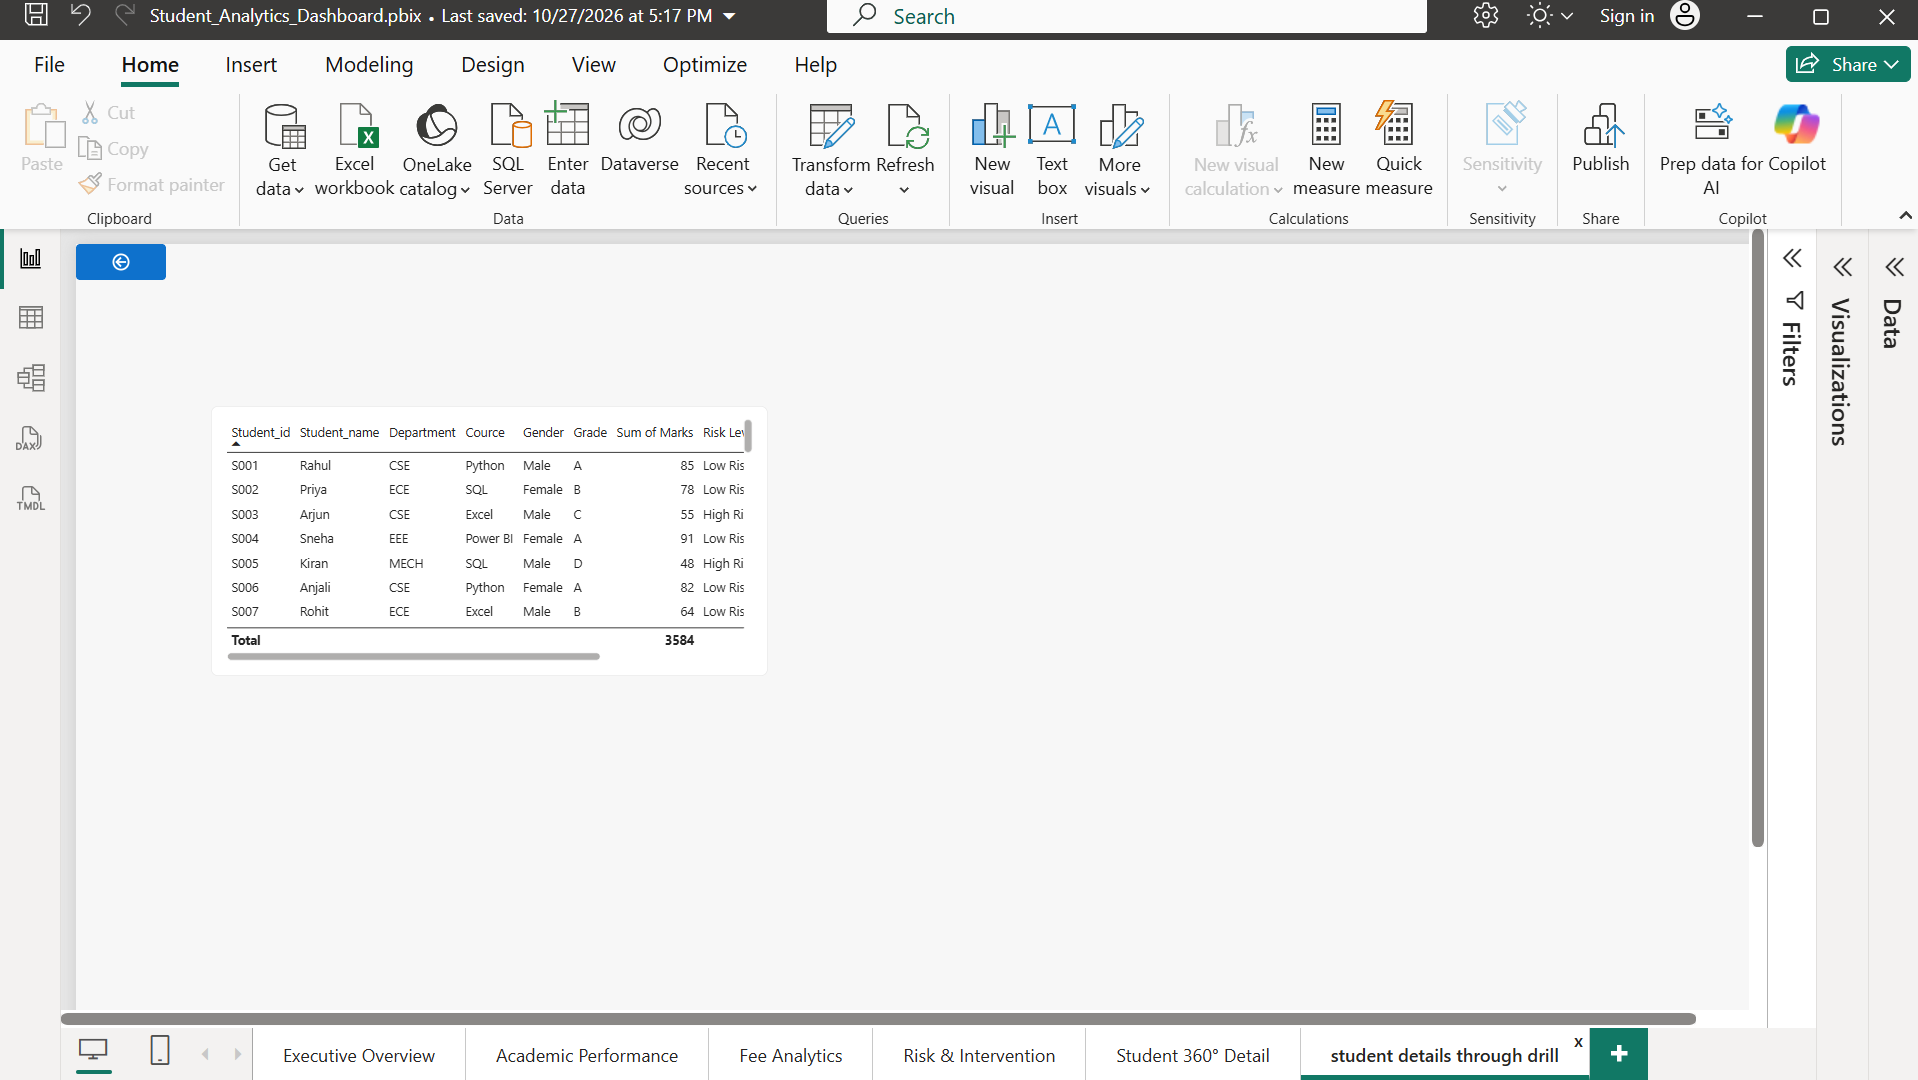

The page's visual inventory and layout, read from the dashboard file:
{"tool":"powerbi","page":{"name":"student details through drill","canvas":[1920,1080],"ordinal":5},"visuals":[{"type":"actionButton","box":[0,0,100,40],"z":0},{"type":"tableEx","fields":{"Values":["Student_performance.Student_id","Student_performance.Student_name","Student_performance.Department","Student_performance.Cource","Student_performance.Gender","Student_performance.Grade","Sum(Student_performance.Marks)","Student_performance.Risk Level","Sum(Student_performance.Attendance_percent)"]},"box":[150,180,618.6,300],"z":1000}]}

Visuals, with their boxes on the page's 1920x1080 design canvas (x1, y1, x2, y2). These are canvas units, not pixel positions in the 1918x1080 screenshot, which may show the page scaled, cropped or inside an application window:
actionButton: {"left": 0, "top": 0, "right": 100, "bottom": 40}
tableEx - Student_performance.Student_id x Student_performance.Student_name: {"left": 150, "top": 180, "right": 769, "bottom": 480}
